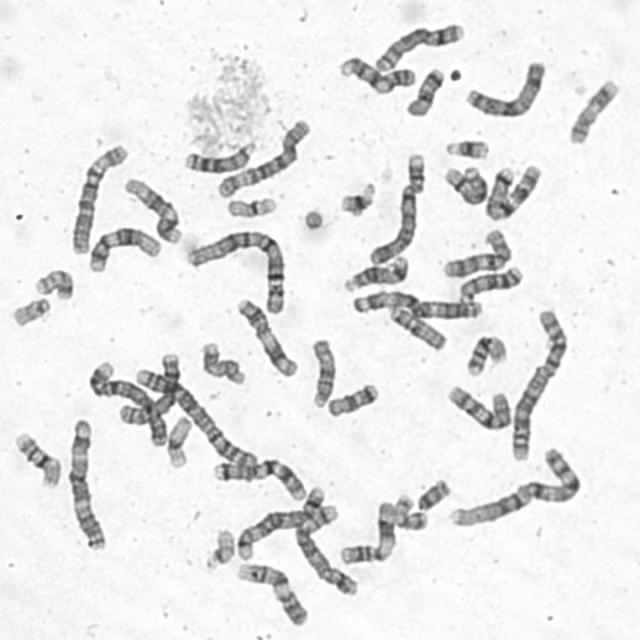A1: (444, 441, 583, 531), (181, 224, 289, 316)
A2: (127, 362, 259, 470), (506, 304, 570, 463)
A3: (63, 413, 109, 552), (348, 286, 486, 322)
B4: (84, 356, 170, 447), (364, 148, 426, 266)
B5: (232, 488, 330, 562), (292, 500, 361, 598)
C10: (438, 224, 514, 280), (443, 380, 513, 432)
C11: (231, 292, 301, 380), (335, 496, 399, 567)
C12: (118, 172, 184, 246), (83, 221, 163, 274)
C6: (212, 114, 314, 200), (66, 138, 130, 255)
C7: (208, 455, 308, 502), (480, 160, 544, 223)
C8: (370, 17, 467, 74), (116, 348, 183, 428)
C9: (231, 558, 310, 628), (334, 51, 418, 96)
D13: (454, 260, 526, 304), (180, 137, 258, 175)
D14: (339, 252, 411, 294), (441, 164, 489, 206)
D15: (385, 301, 449, 353), (306, 333, 338, 410)
E16: (10, 427, 63, 490), (462, 331, 509, 378)
E17: (564, 73, 622, 146), (196, 337, 248, 387)
E18: (401, 64, 447, 118), (322, 378, 380, 419)
F19: (162, 410, 194, 470), (222, 192, 279, 220)
F20: (30, 264, 76, 302), (390, 488, 429, 532)
G21: (335, 176, 379, 218), (441, 134, 491, 161)
G22: (199, 524, 236, 573), (8, 292, 52, 328)
X: (461, 55, 548, 120)
Y: (412, 474, 452, 512)
